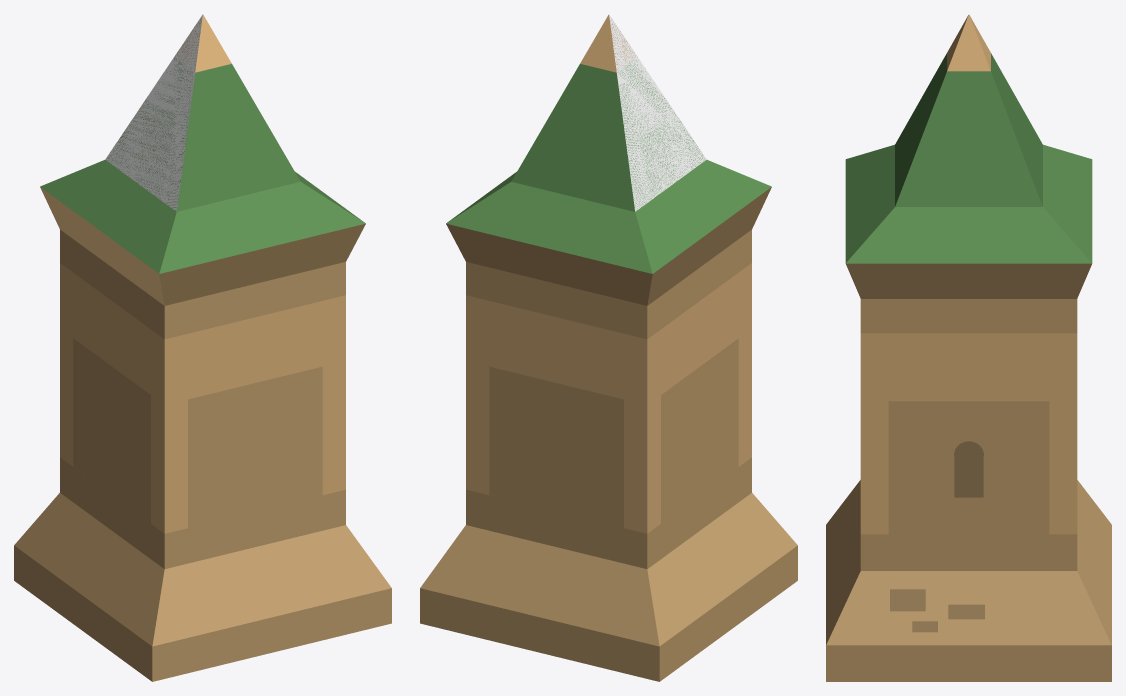
File: PiercingTower.dae
3 renders of one model, left to right at view 1: azimuth 30°, elevation 25°; view 2: azimuth 150°, elevation 25°; view 3: azimuth 270°, elevation 25°, orthographic. The views are drawn at different scales.
Parts seen in each view (by area): view 1: Group99 (×6), Group18, Group80 (×4); view 2: Group99 (×6), Group18, Group80 (×4); view 3: Group99 (×4), Group18 (×3), Group80 (×4).
Part boxes in pixels (x1,y1,x2,y2): Group99 (×6): (40,14,365,404); Group18: (14,457,391,681); Group80 (×4): (60,329,345,533); Group99 (×6): (446,14,771,404); Group18: (420,457,797,681); Group80 (×4): (466,329,751,533); Group99 (×4): (845,14,1092,401); Group18 (×3): (826,480,1111,681); Group80 (×4): (860,401,1077,534).
Size of the model in its own units: 30.66 by 30.66 by 71.94.
